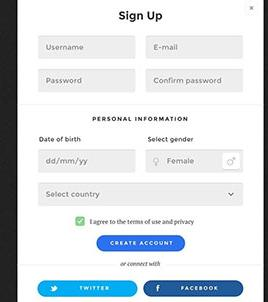button: (38, 280, 139, 297), (144, 280, 242, 297), (98, 234, 185, 252)
checkbox: (74, 215, 85, 227)
checkbox_with_label: (72, 213, 195, 228)
field: (37, 182, 243, 206), (37, 35, 137, 59), (142, 69, 242, 93), (35, 69, 135, 93), (143, 36, 243, 60), (141, 149, 241, 173), (34, 150, 134, 174)
field_with_label: (32, 135, 135, 177), (139, 135, 244, 175)
